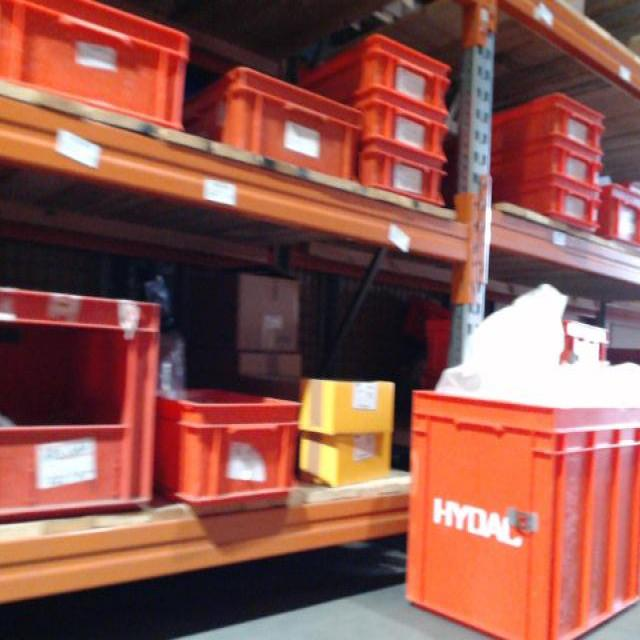small_load_carrier: (406, 391, 638, 639), (1, 280, 170, 521), (0, 4, 195, 138), (174, 53, 356, 193), (152, 383, 305, 513), (279, 25, 457, 119), (459, 84, 613, 156), (338, 95, 447, 161), (358, 139, 445, 212), (457, 147, 601, 187), (501, 180, 598, 231), (595, 173, 639, 255)
